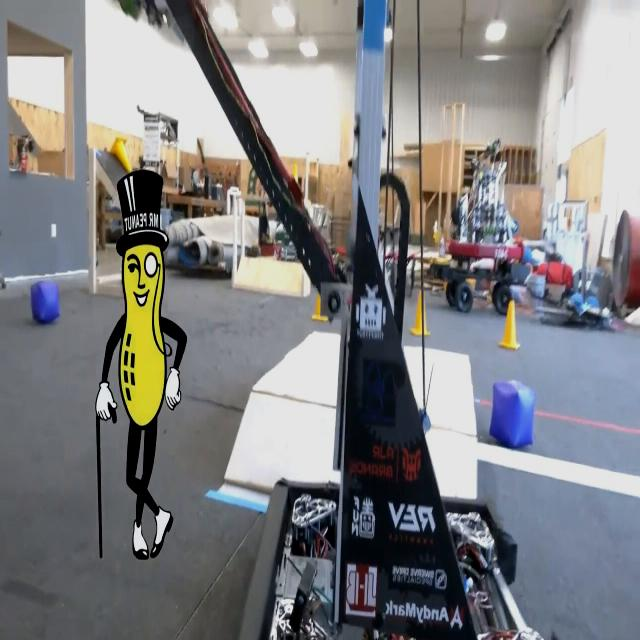frc_cone: (307, 272, 330, 330), (110, 131, 138, 176), (500, 301, 520, 356), (411, 289, 430, 340), (288, 153, 305, 197)
frc_cube: (488, 380, 538, 449), (25, 266, 70, 331)
